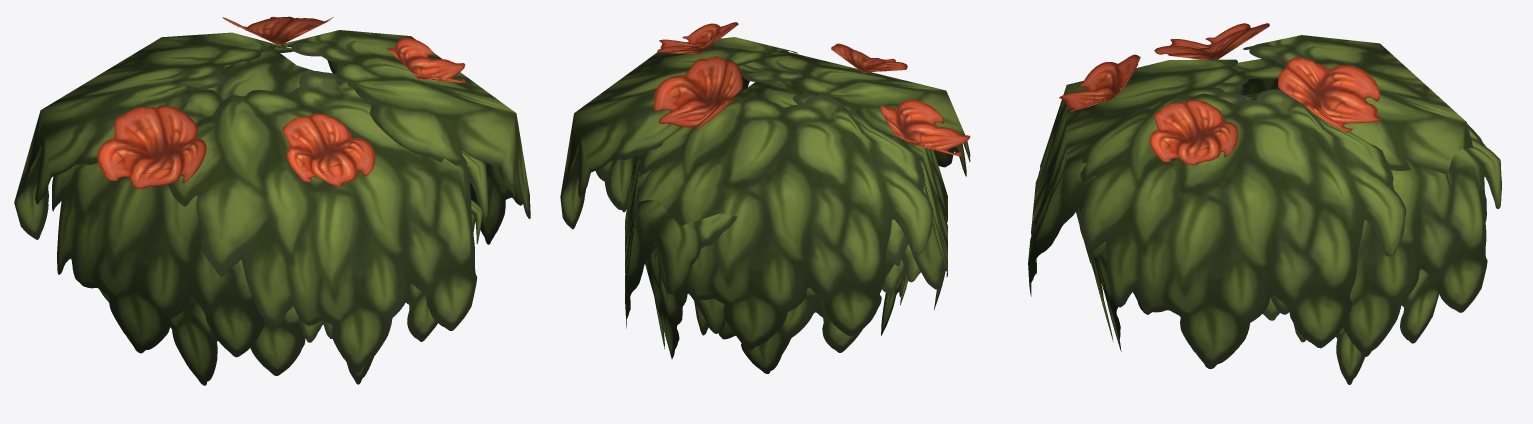
File: bush flower2.FBX
The picture shows the model from 3 angles, left to right: view 1: azimuth 30°, elevation 25°; view 2: azimuth 150°, elevation 25°; view 3: azimuth 270°, elevation 25°; orthographic projection. The views are drawn at different scales.
Parts seen in each view (by area): view 1: bush flower2; view 2: bush flower2; view 3: bush flower2.
Boxes of the visible parts, box(x1,y1,x2,y2) form: bush flower2: box(14, 16, 530, 385); bush flower2: box(560, 22, 970, 373); bush flower2: box(1028, 23, 1501, 384).
Size of the model in its own units: 364 by 265 by 378.
1 material, 1 textured.
